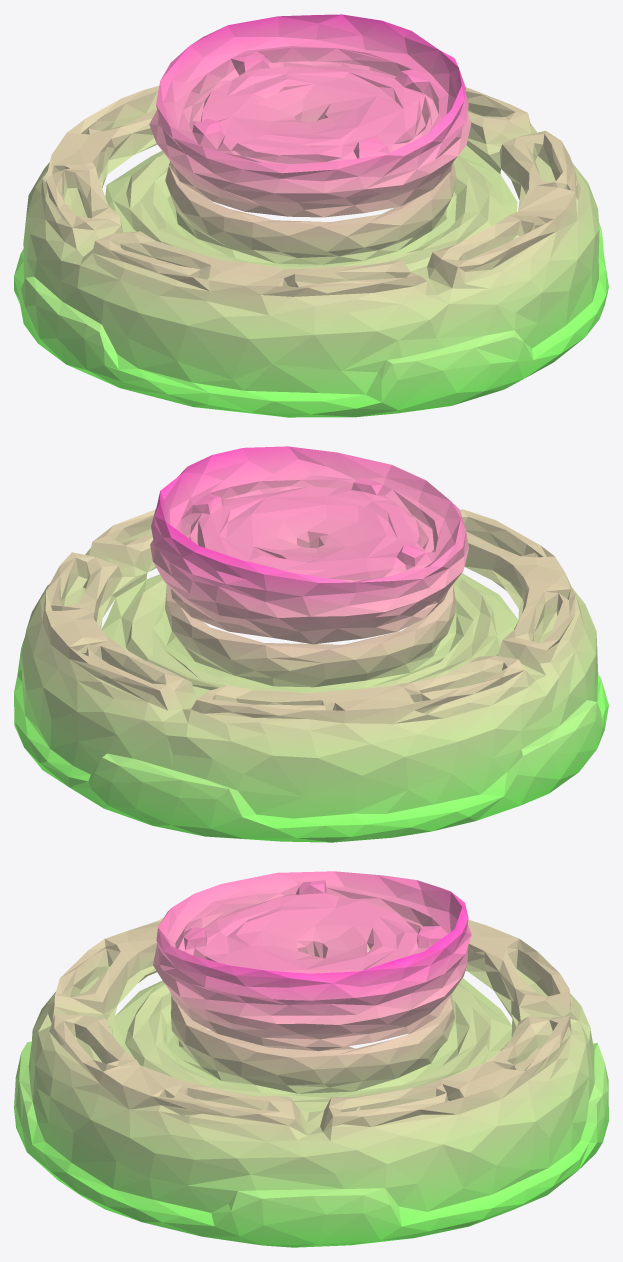
The model's file is 182_cyb_laser_gradient_fish_scales_2847_2026_10_03_a14a1e.glb.
3 renders of one model, top to bottom at view 1: azimuth 30°, elevation 25°; view 2: azimuth 150°, elevation 25°; view 3: azimuth 270°, elevation 25°, orthographic.
Parts seen in each view (by area): view 1: geometry_0; view 2: geometry_0; view 3: geometry_0.
Part boxes in pixels (<box>): geometry_0: <box>14,14,608,417</box>; geometry_0: <box>14,446,608,842</box>; geometry_0: <box>14,871,608,1247</box>.
Bounding box in the file's own units: 1 × 0.4068 × 1.
